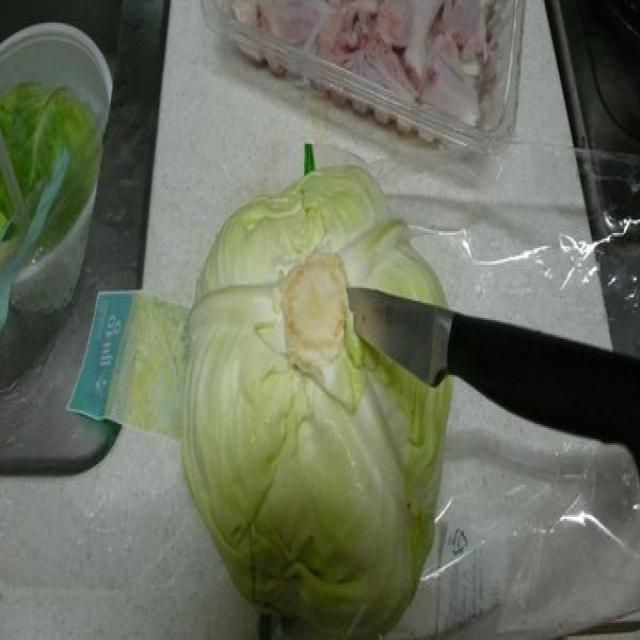cabbage: (180, 146, 456, 640)
